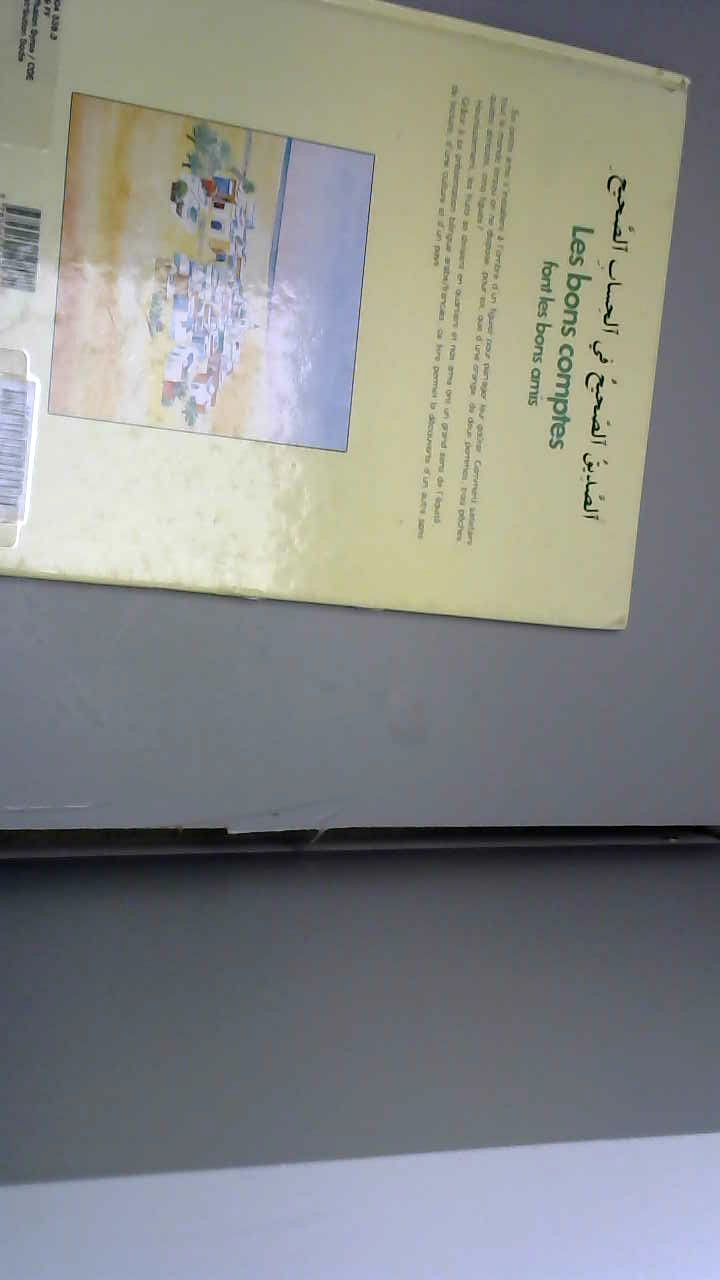book: (0, 0, 710, 662)
